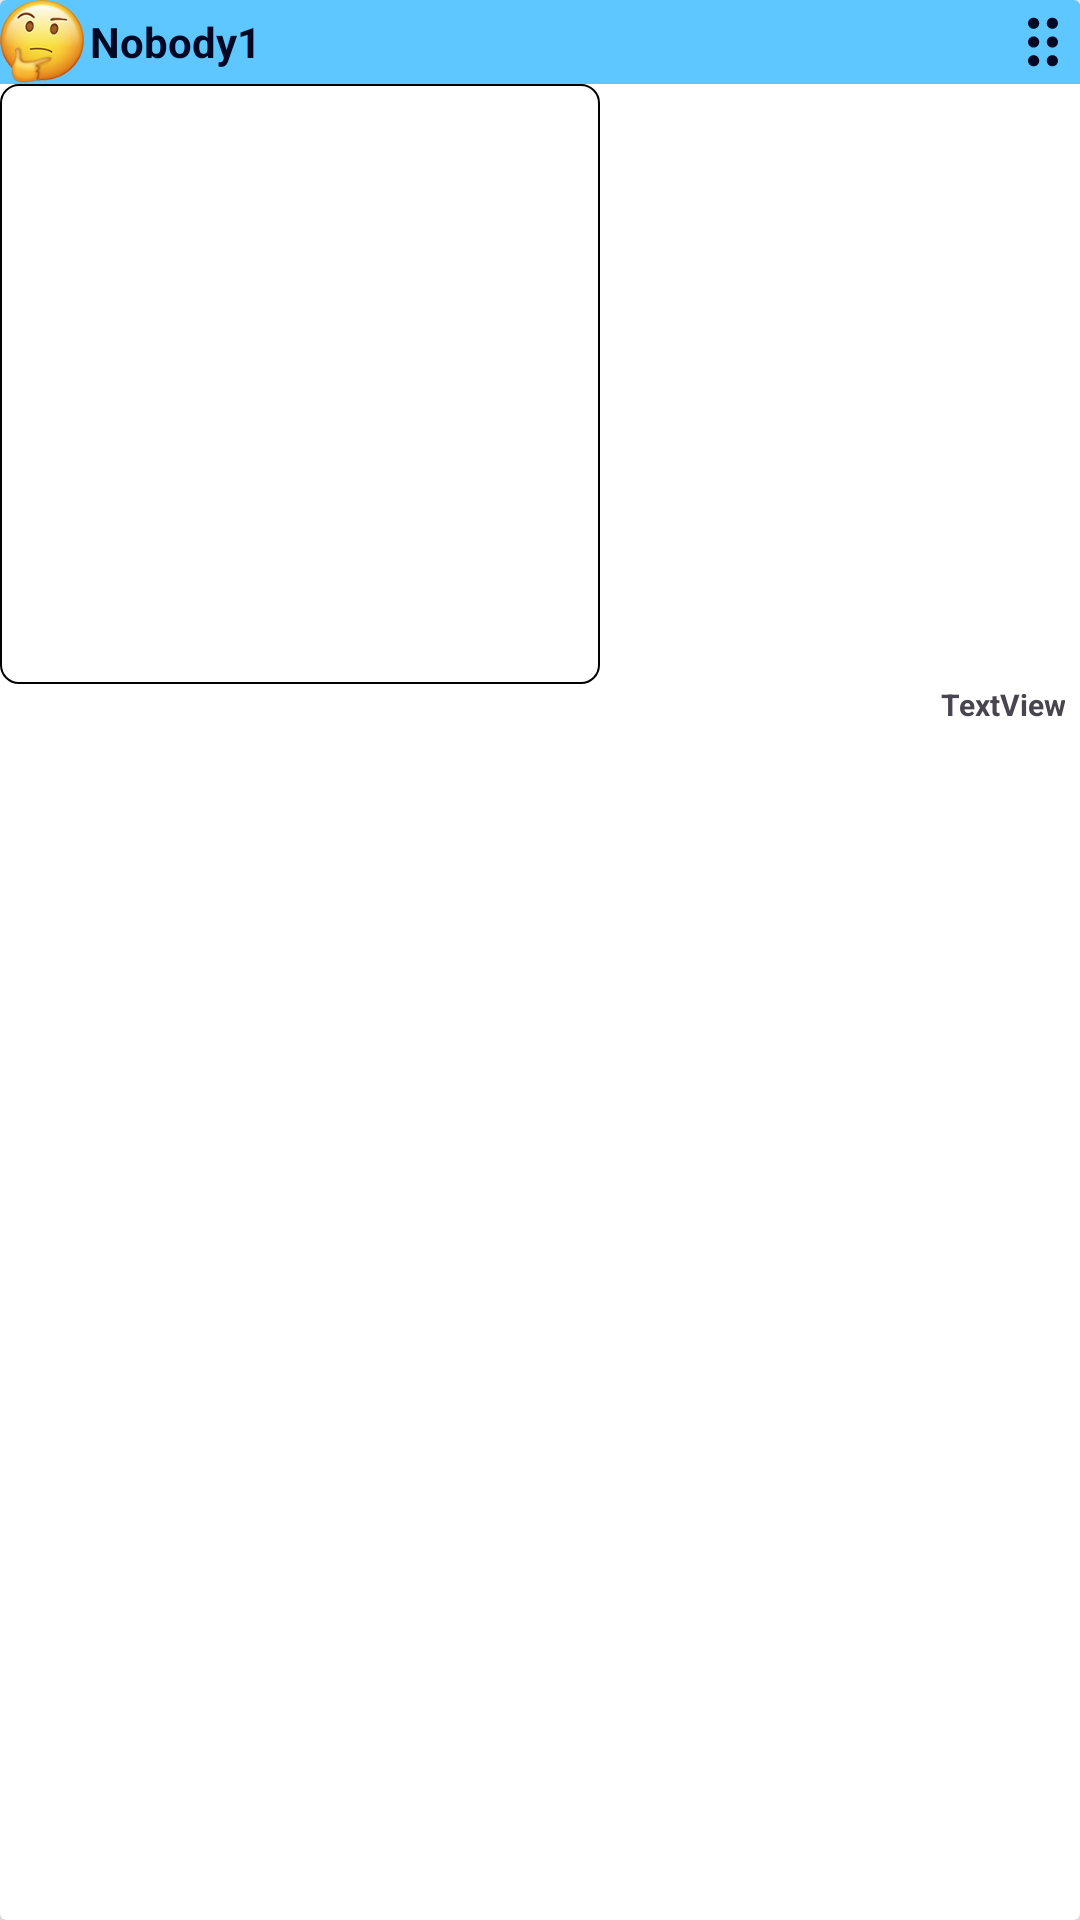

Named icons in this screenshot (1080x1920) and their centers, point (x, y):
grip dots vertical: point (1043, 42)
